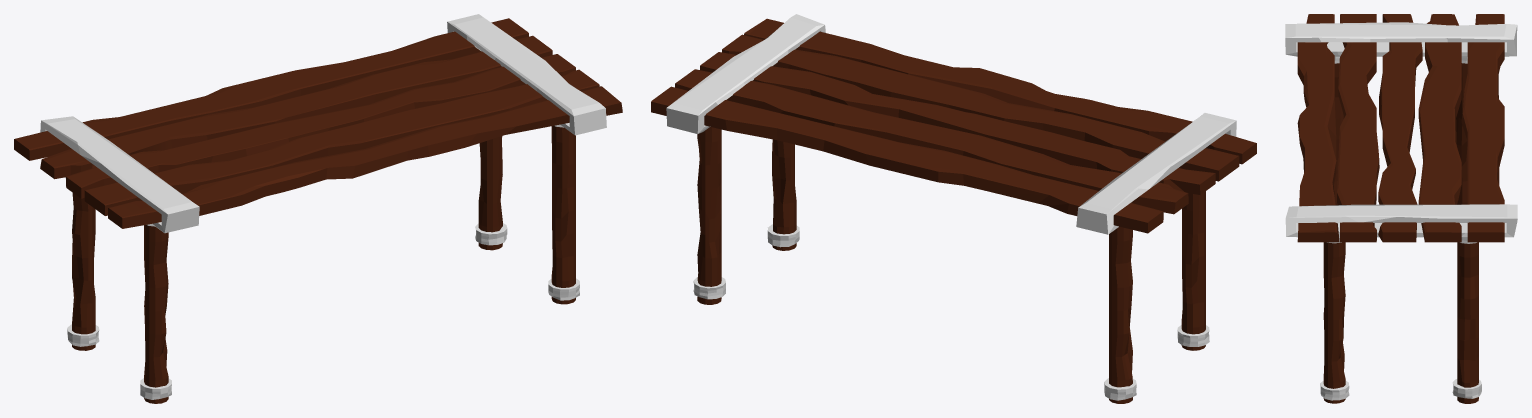
Rendered from Table.fbx.
3 renders of one model, left to right at view 1: azimuth 30°, elevation 25°; view 2: azimuth 150°, elevation 25°; view 3: azimuth 270°, elevation 25°, orthographic. The views are drawn at different scales.
Parts seen in each view (by area): view 1: Куб; view 2: Куб; view 3: Куб.
Part boxes in pixels (x1,y1,x2,y2): Куб: (14,14,622,403); Куб: (651,14,1256,403); Куб: (1285,14,1517,403).
Bounding box in the file's own units: 1401 × 568 × 630.
